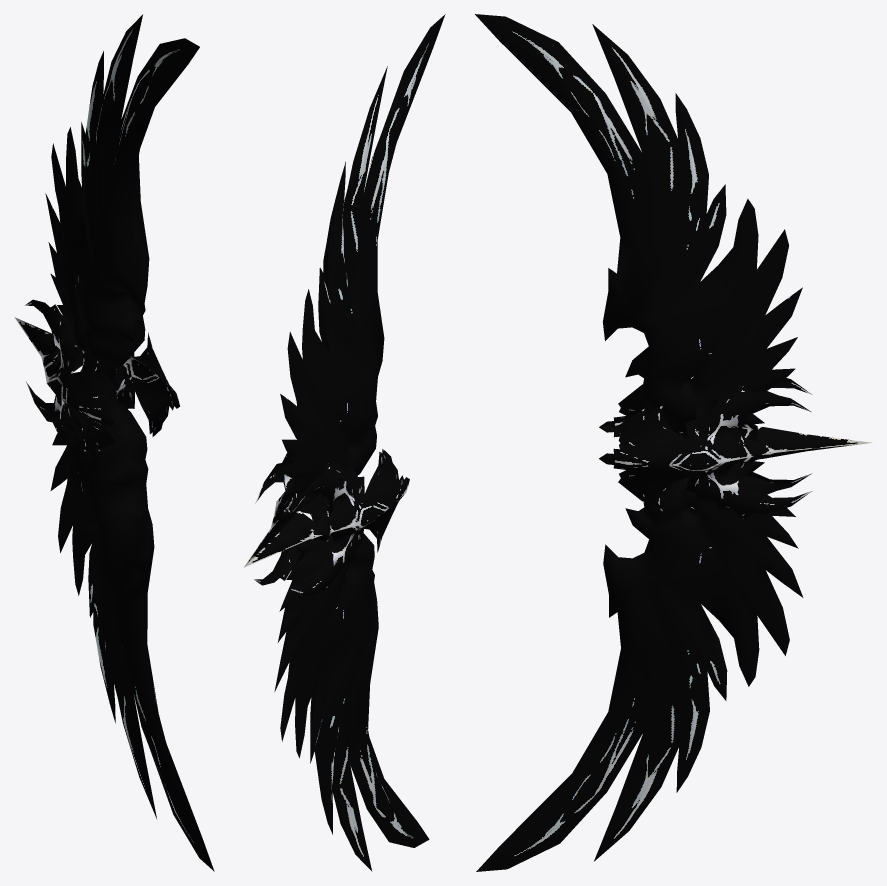
3 views of the same model, side by side, from view 1: azimuth 30°, elevation 25°; view 2: azimuth 150°, elevation 25°; view 3: azimuth 270°, elevation 25° (orthographic). The views are drawn at different scales.
Size of the model in its own units: 0.3641 by 3.04 by 1.29.
1 material, 1 textured.
